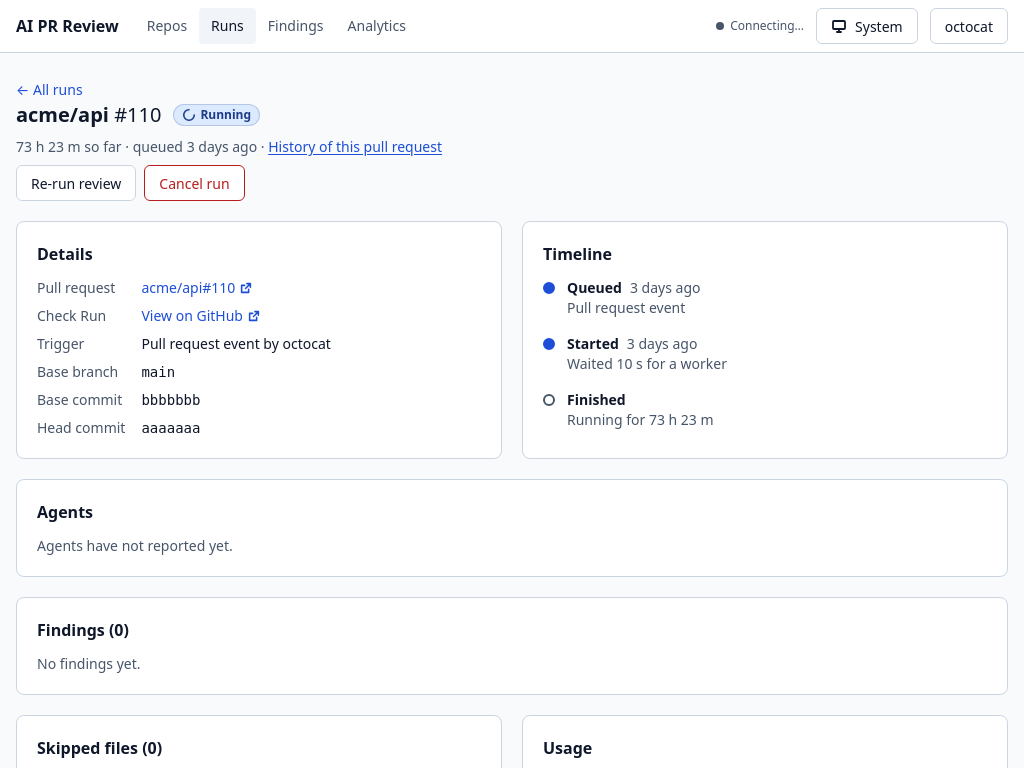
Scenario: Cancel › cancels an active run after confirmation
The width and height of the screenshot is (1024, 768).
Click the button "Cancel run". click: {"x": 194, "y": 183}
box: top-left (144, 165), bottom-right (245, 201)
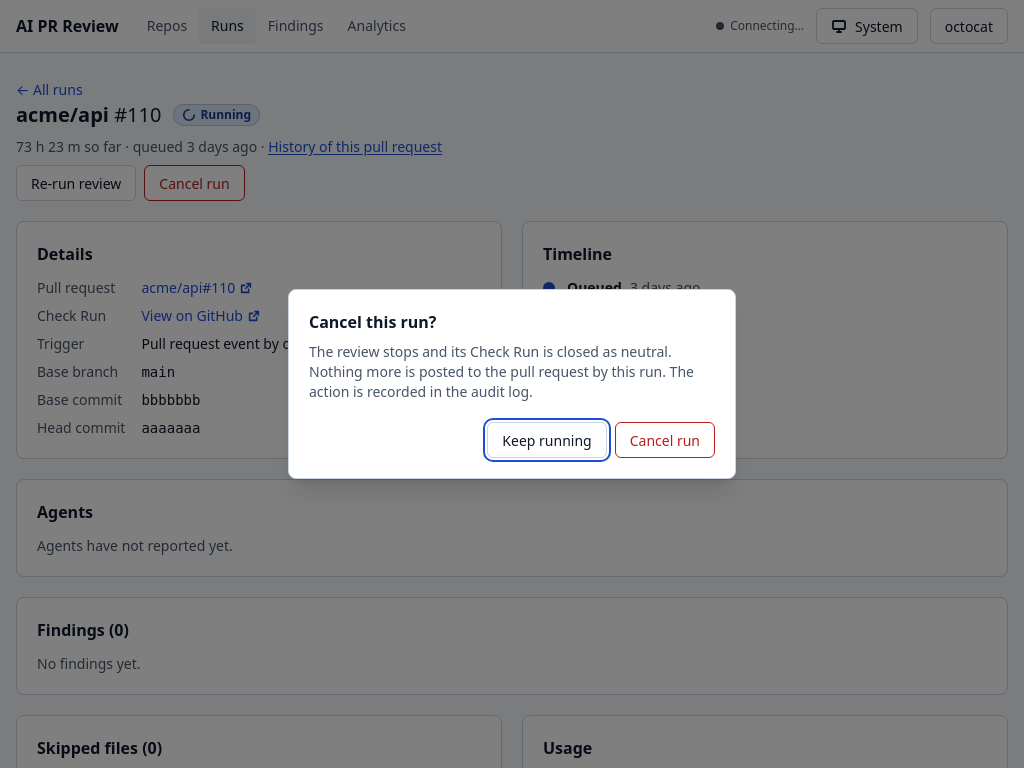
Click the button "Keep running". click: {"x": 547, "y": 440}
box: top-left (487, 422), bottom-right (607, 458)
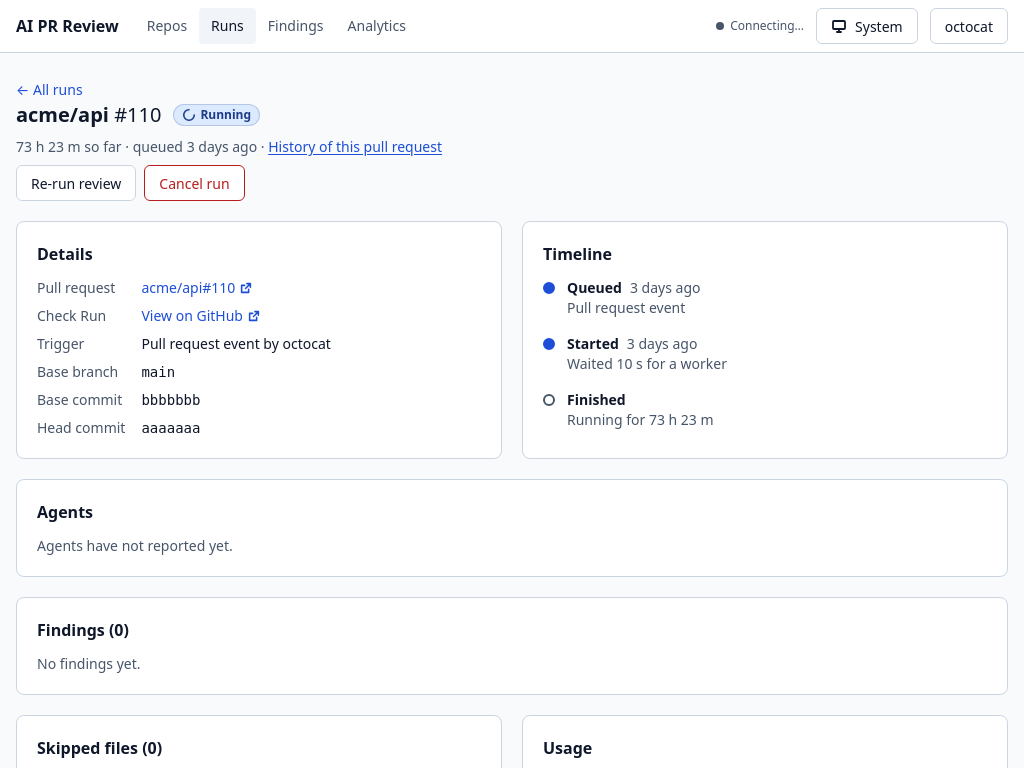
Click the button "Cancel run". click: {"x": 194, "y": 183}
box: top-left (144, 165), bottom-right (245, 201)
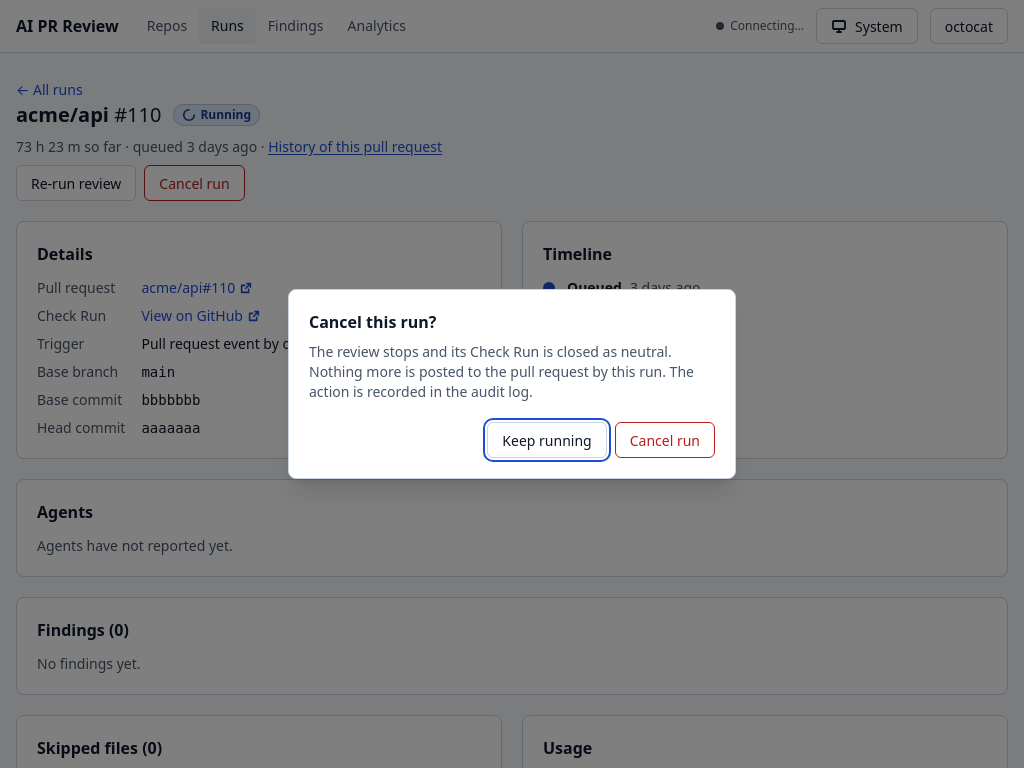
Click the button "Cancel run". click: {"x": 665, "y": 440}
box: top-left (615, 422), bottom-right (715, 458)
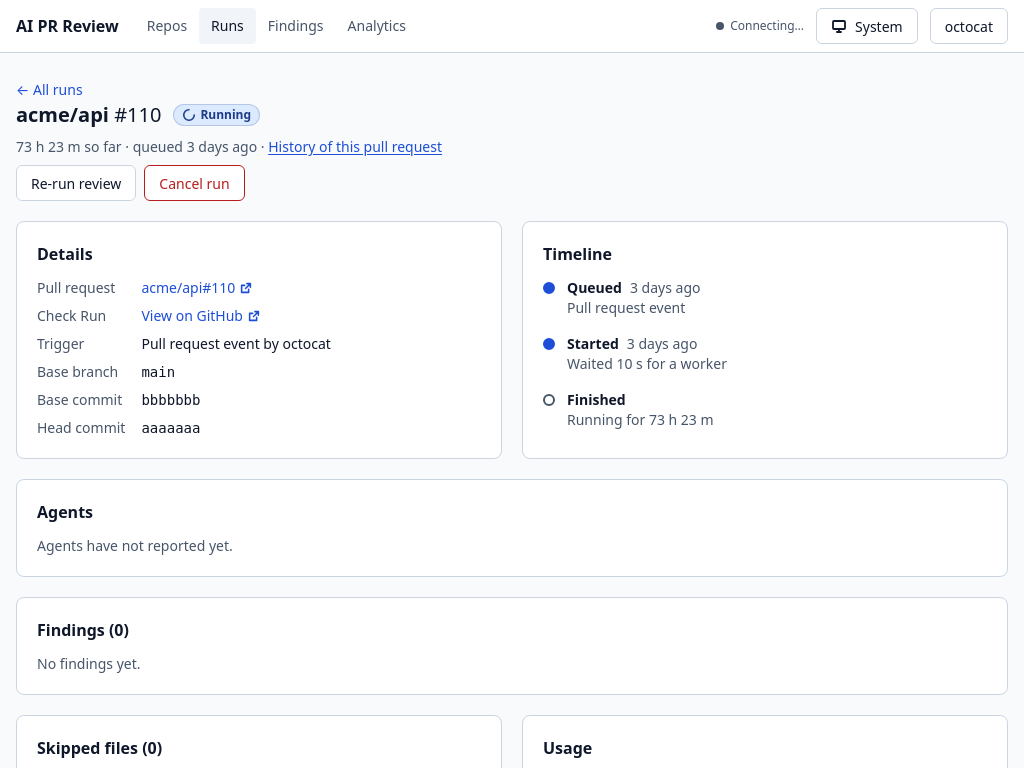
Expected: the dialog is gone
